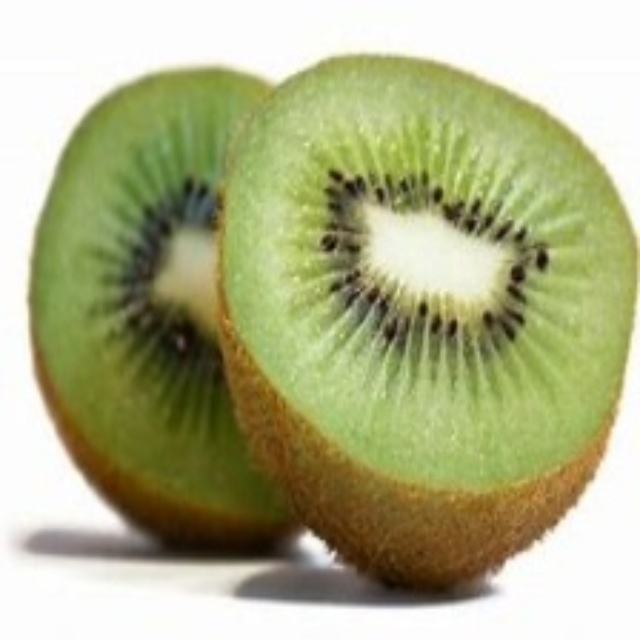kiwi: (221, 47, 639, 580), (30, 72, 312, 561)
